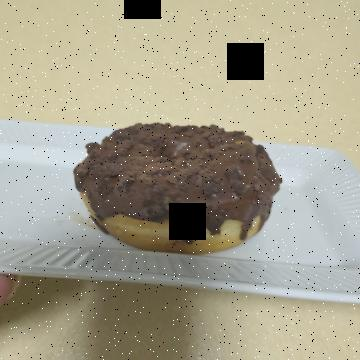doughnut: (105, 63, 269, 290)
